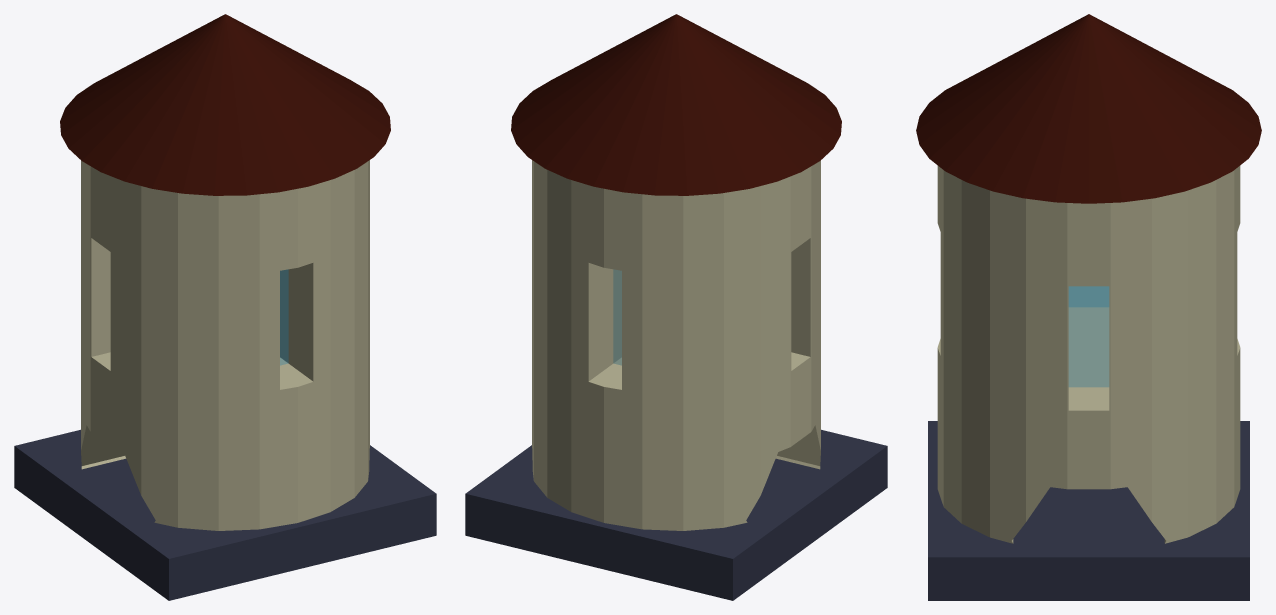
Rendered from storage_container.fbx.
3 renders of one model, left to right at view 1: azimuth 30°, elevation 25°; view 2: azimuth 150°, elevation 25°; view 3: azimuth 270°, elevation 25°, orthographic. The views are drawn at different scales.
Visible parts, largest first — view 1: Cylinder, Cone, Plane.003, Plane.001; view 2: Cylinder, Cone, Plane.003, Plane.004; view 3: Cylinder, Cone, Plane.003, Plane, Plane.002.
Boxes of the visible parts, x1=… form: Cylinder: x1=81, y1=160, x2=369, y2=530; Cone: x1=60, y1=14, x2=390, y2=195; Plane.003: x1=14, y1=429, x2=436, y2=600; Plane.001: x1=280, y1=270, x2=288, y2=365; Cylinder: x1=532, y1=160, x2=820, y2=530; Cone: x1=511, y1=14, x2=841, y2=195; Plane.003: x1=465, y1=429, x2=887, y2=600; Plane.004: x1=613, y1=270, x2=621, y2=365; Cylinder: x1=937, y1=166, x2=1240, y2=543; Cone: x1=916, y1=14, x2=1261, y2=203; Plane.003: x1=928, y1=421, x2=1249, y2=600; Plane: x1=1069, y1=286, x2=1108, y2=386; Plane.002: x1=1069, y1=287, x2=1108, y2=306.
Size of the model in its own units: 107 by 178 by 107.
